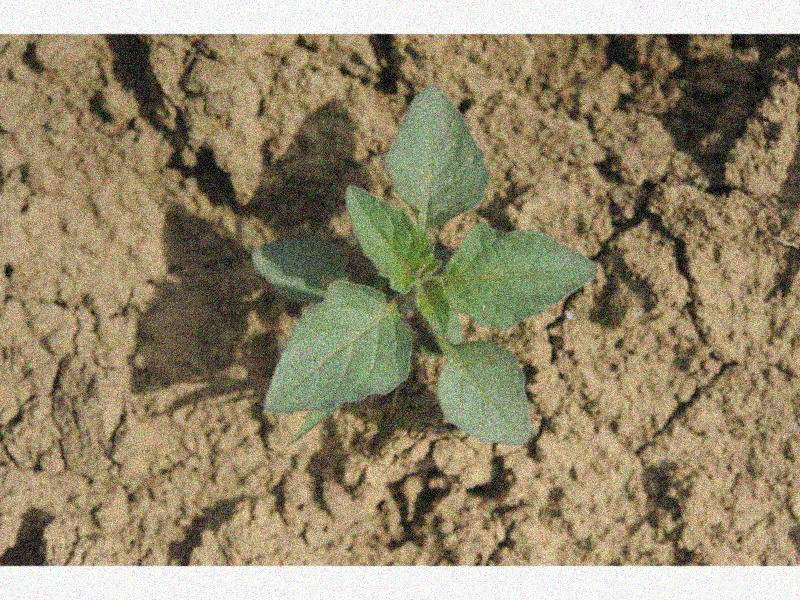nightshade: (251, 83, 598, 447)
